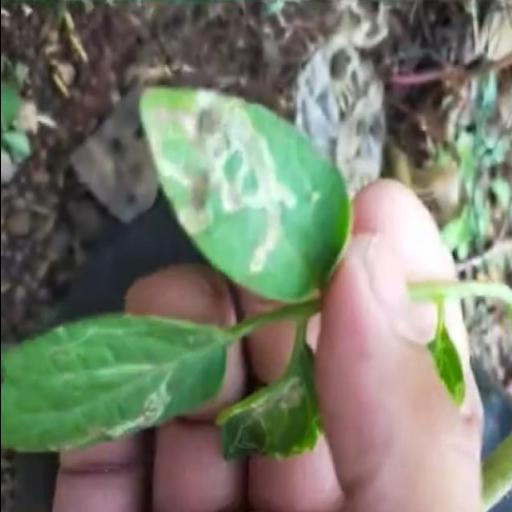Leaf Miner: (135, 84, 352, 309), (0, 306, 228, 458)
